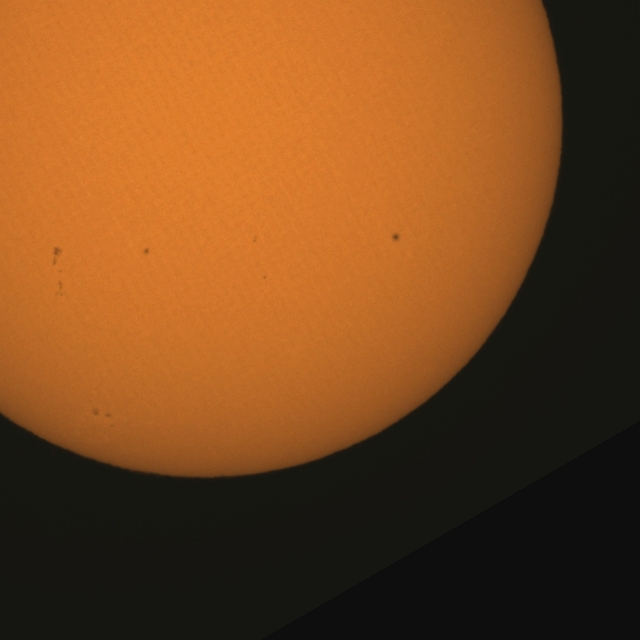sunspot: (50, 246, 63, 272), (91, 406, 113, 421), (55, 278, 65, 297), (390, 232, 402, 244), (91, 406, 100, 417), (142, 247, 150, 256), (252, 235, 258, 244), (262, 274, 268, 281)
